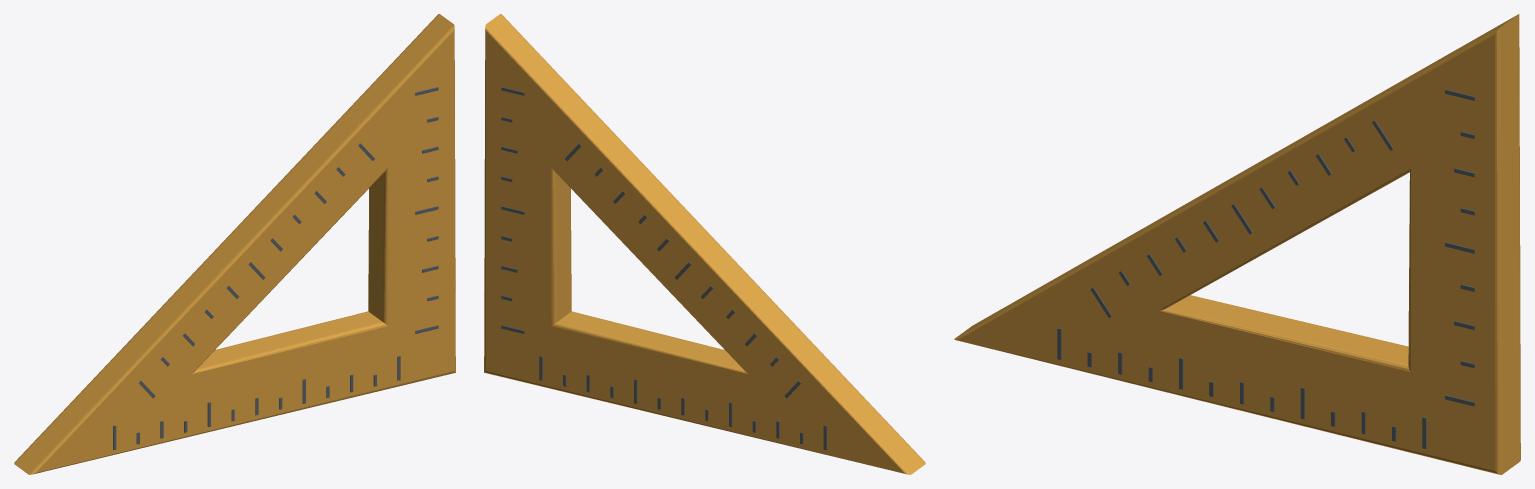
File: workshop-triangle.glb
3 renders of one model, left to right at view 1: azimuth 30°, elevation 25°; view 2: azimuth 150°, elevation 25°; view 3: azimuth 330°, elevation 25°, orthographic. The views are drawn at different scales.
Parts seen in each view (by area): view 1: brass, steelInset; view 2: brass, steelInset; view 3: brass, steelInset.
Part boxes in pixels (bbox=[...]): brass: bbox=[14, 14, 455, 474]; steelInset: bbox=[113, 87, 438, 450]; brass: bbox=[484, 14, 925, 474]; steelInset: bbox=[501, 87, 826, 450]; brass: bbox=[954, 14, 1520, 474]; steelInset: bbox=[1057, 89, 1474, 448].
Size of the model in its own units: 0.315 by 0.2457 by 0.0241.
